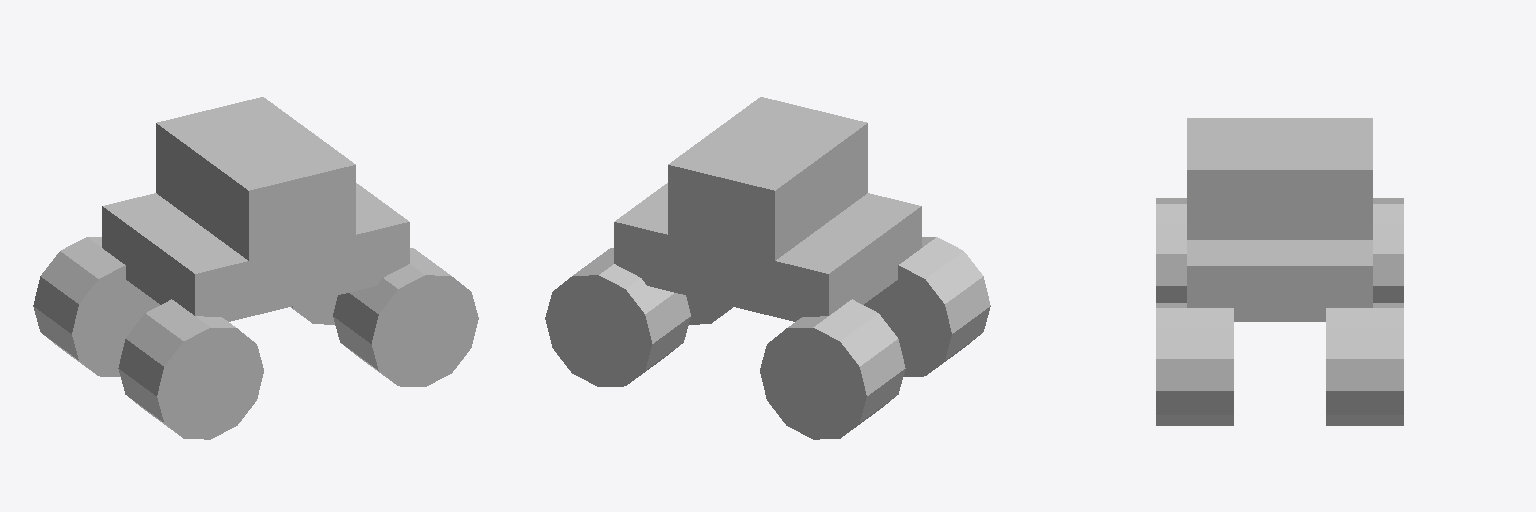
File: car5.obj
The picture shows the model from 3 angles: view 1: azimuth 30°, elevation 25°; view 2: azimuth 150°, elevation 25°; view 3: azimuth 270°, elevation 25°; orthographic projection.
Parts seen in each view (by area): view 1: Cube.002; view 2: Cube.002; view 3: Cube.002.
Boxes of the visible parts, x1=… form: Cube.002: x1=33, y1=97, x2=478, y2=439; Cube.002: x1=545, y1=97, x2=990, y2=439; Cube.002: x1=1156, y1=118, x2=1403, y2=425.
Size of the model in its own units: 3 by 2 by 2.